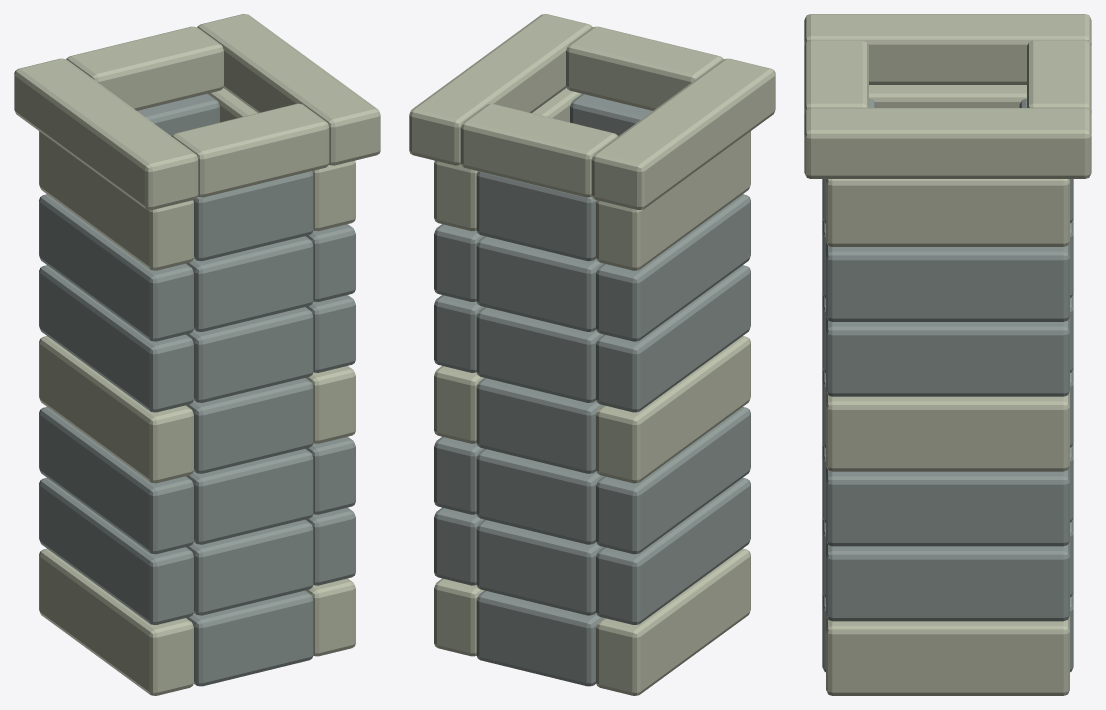
Rendered from attachment_chimney.glb.
3 views of the same model, side by side, from view 1: azimuth 30°, elevation 25°; view 2: azimuth 150°, elevation 25°; view 3: azimuth 270°, elevation 25° (orthographic). The views are drawn at different scales.
Visible parts, largest first — view 1: attachment_chimney__attachments; view 2: attachment_chimney__attachments; view 3: attachment_chimney__attachments.
Part boxes in pixels (x1,y1,x2,y2): attachment_chimney__attachments: (14, 14, 380, 695); attachment_chimney__attachments: (409, 14, 775, 695); attachment_chimney__attachments: (804, 14, 1091, 695).
Bounding box in the file's own units: 0.8 × 1.76 × 0.8.
